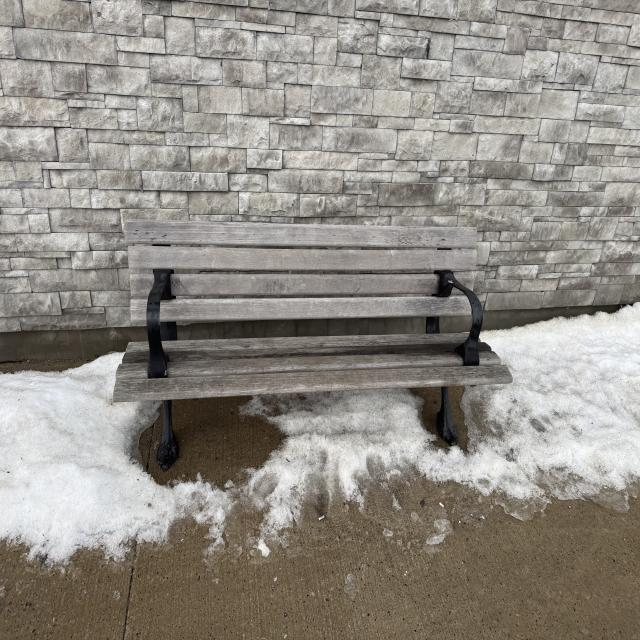Bench: (109, 207, 521, 475)
